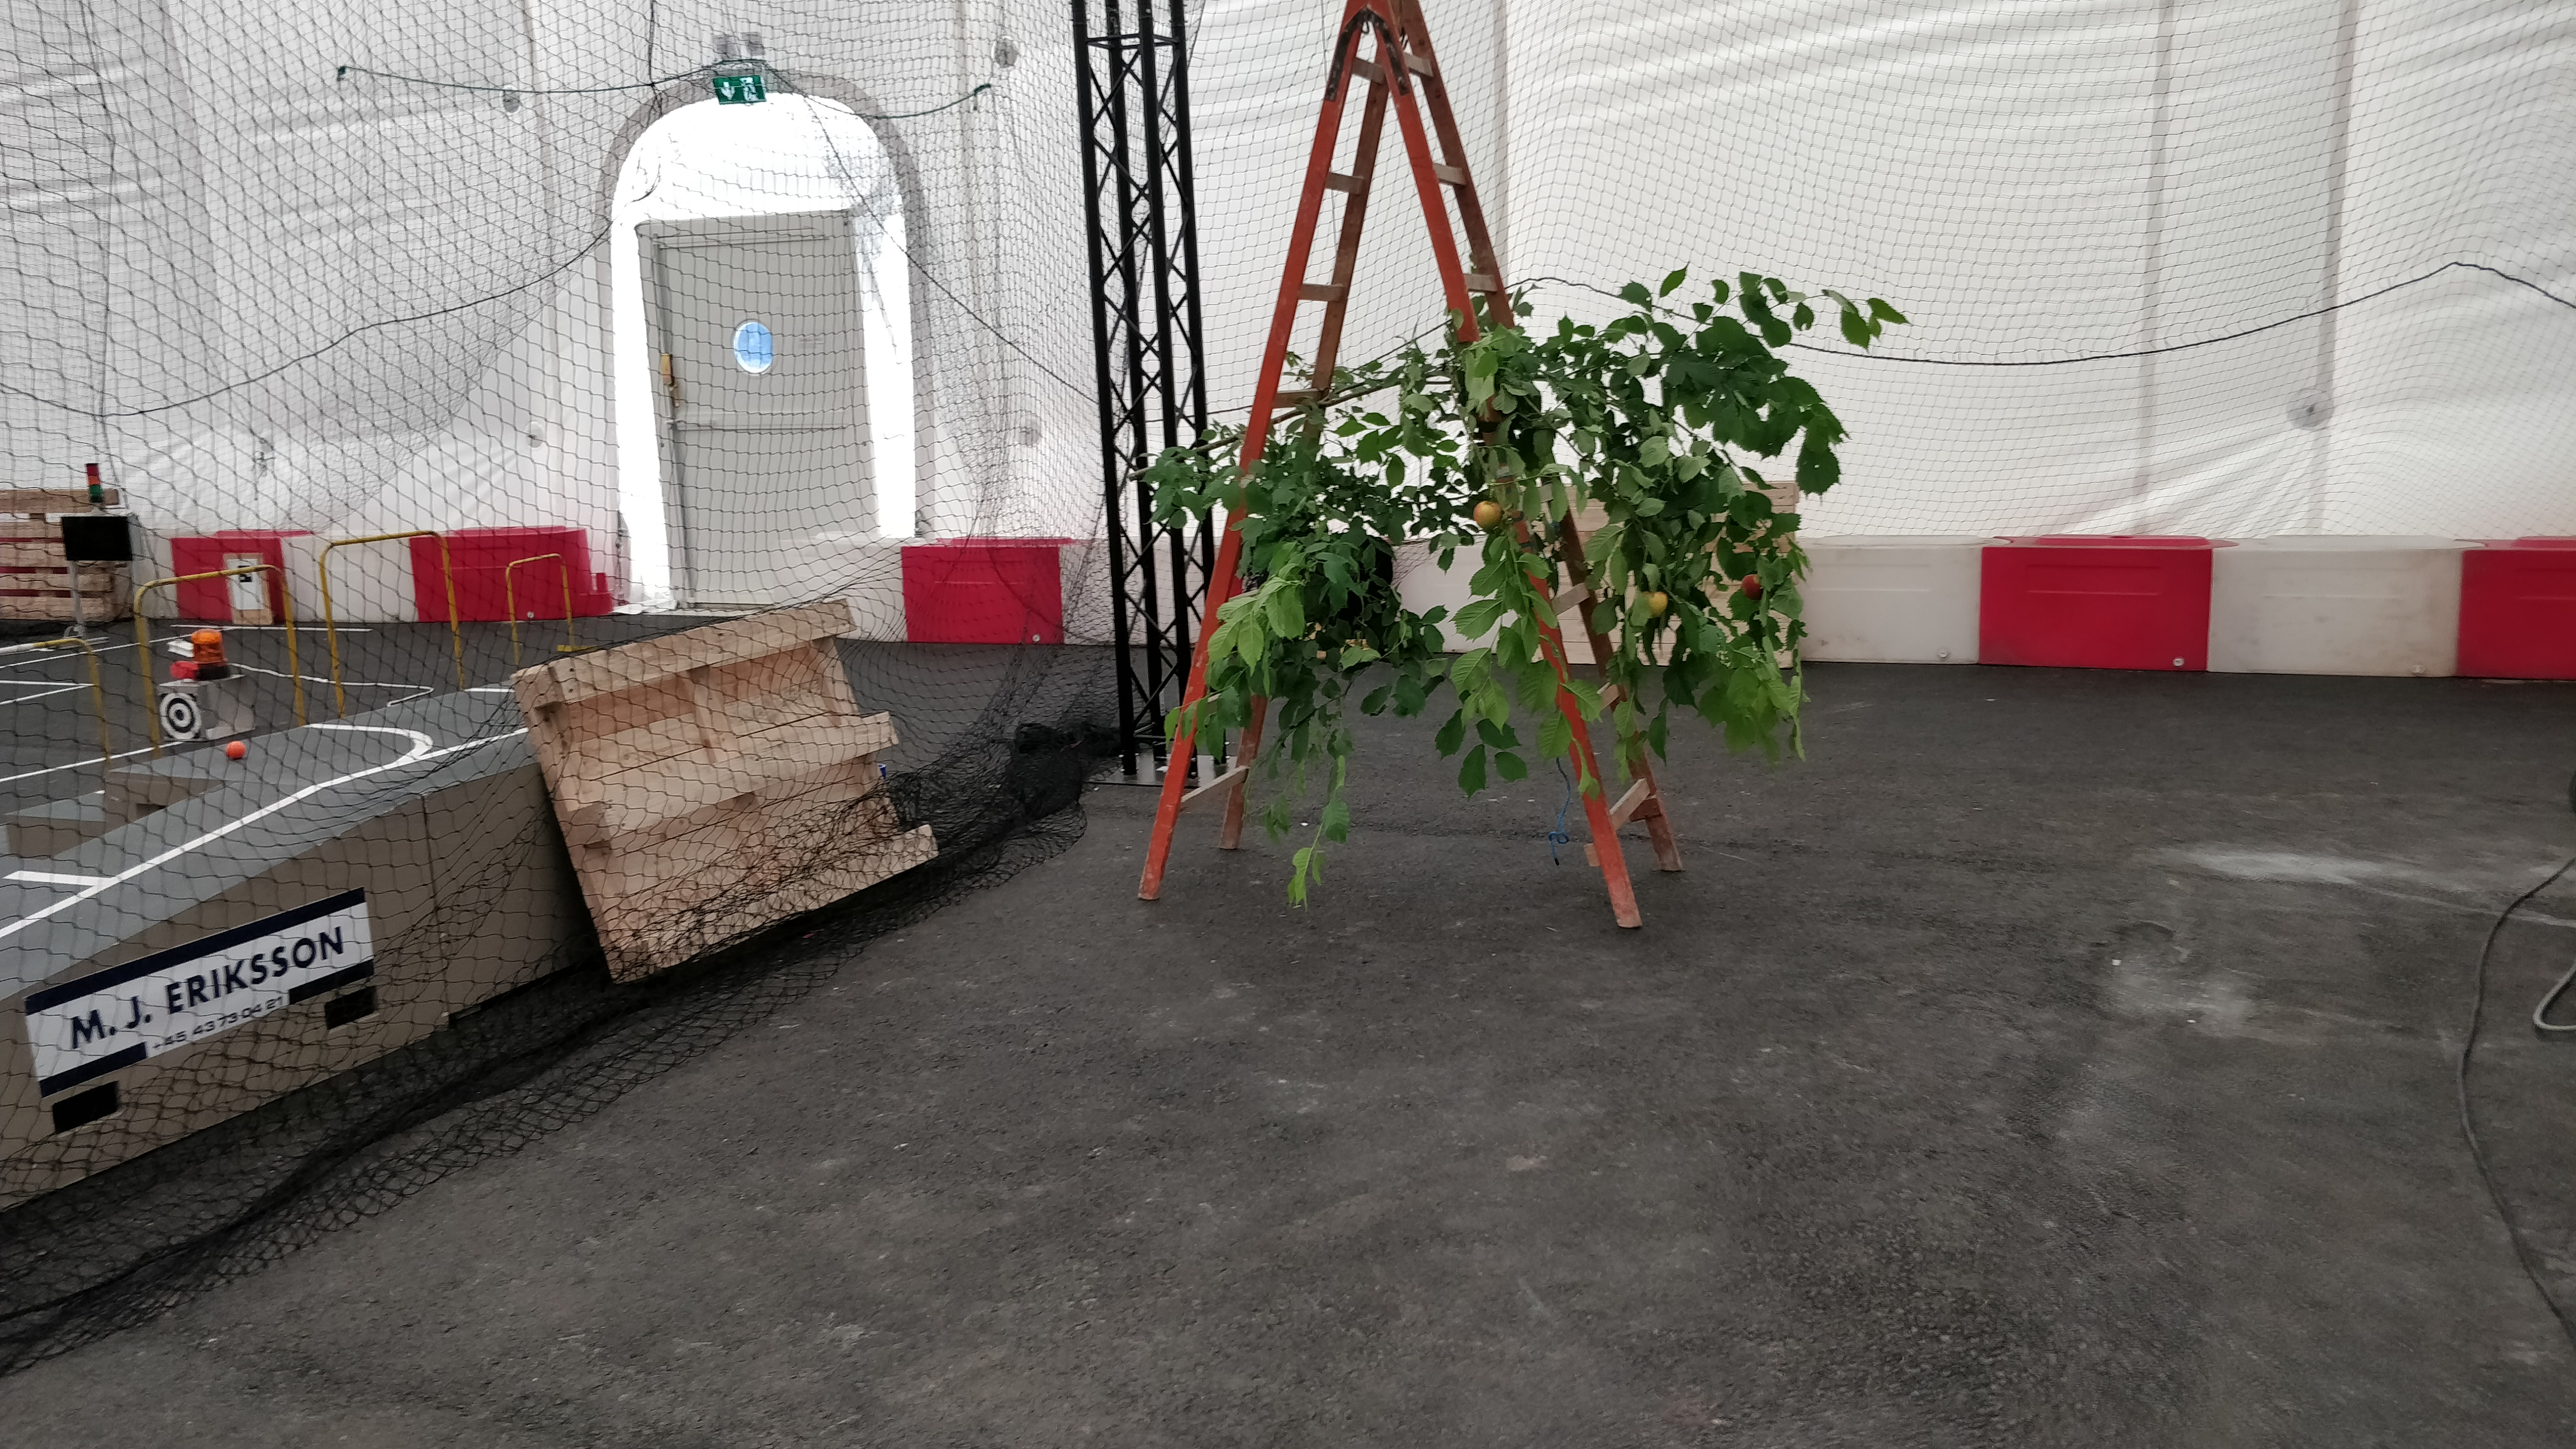apple: (1474, 501, 1502, 529), (1640, 591, 1667, 617), (1741, 575, 1764, 602)
